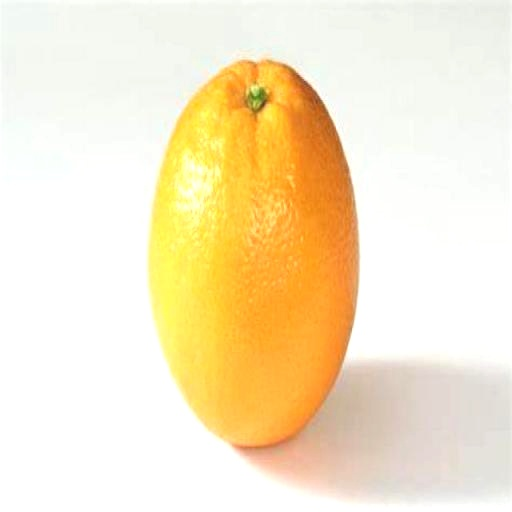fruit: (149, 61, 358, 445)
